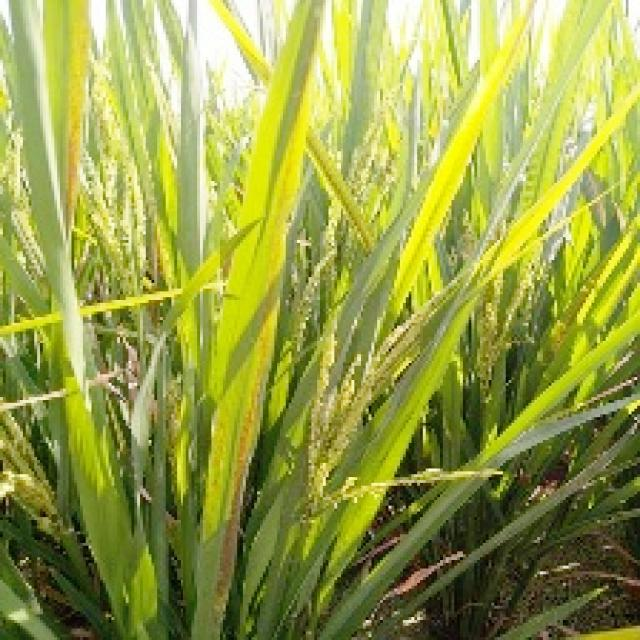health: (311, 6, 640, 457)
